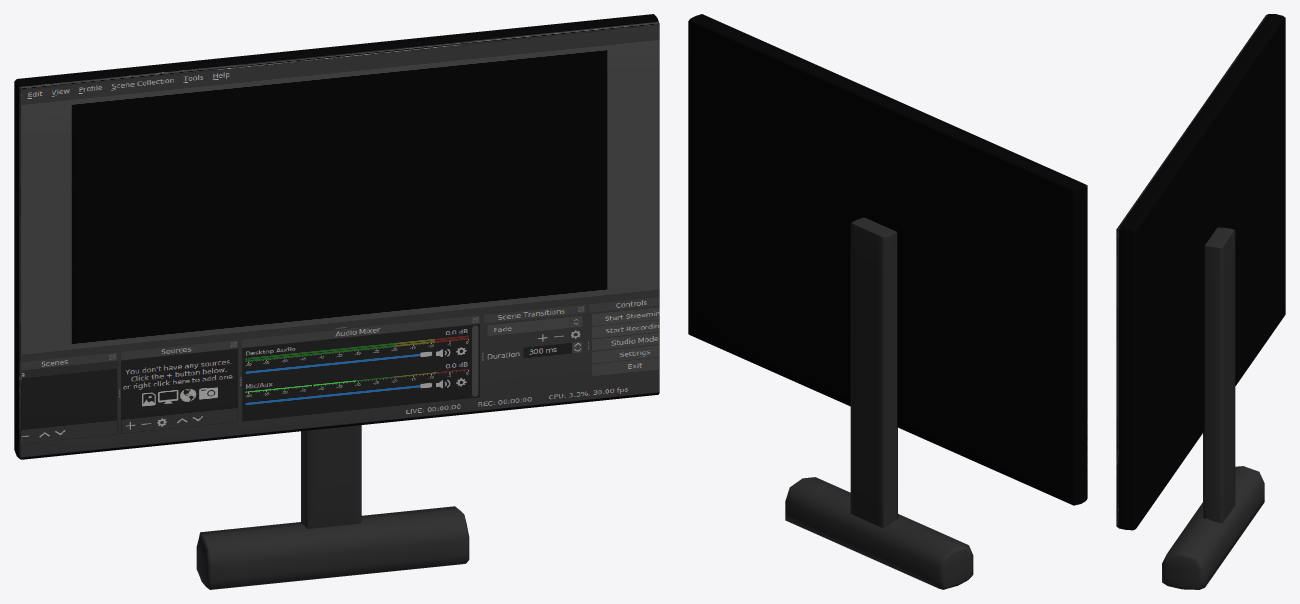
Rendered from Monitor_2.fbx.
3 views of the same model, side by side, from view 1: azimuth 30°, elevation 25°; view 2: azimuth 150°, elevation 25°; view 3: azimuth 270°, elevation 25° (orthographic). The views are drawn at different scales.
Visible parts, largest first — view 1: pCube35; view 2: pCube35; view 3: pCube35.
Boxes of the visible parts, x1,y1,x2,y2 form: pCube35: [14, 14, 659, 589]; pCube35: [688, 14, 1087, 589]; pCube35: [1116, 14, 1285, 589].
Bounding box in the file's own units: 6.25 × 5.69 × 2.06.
